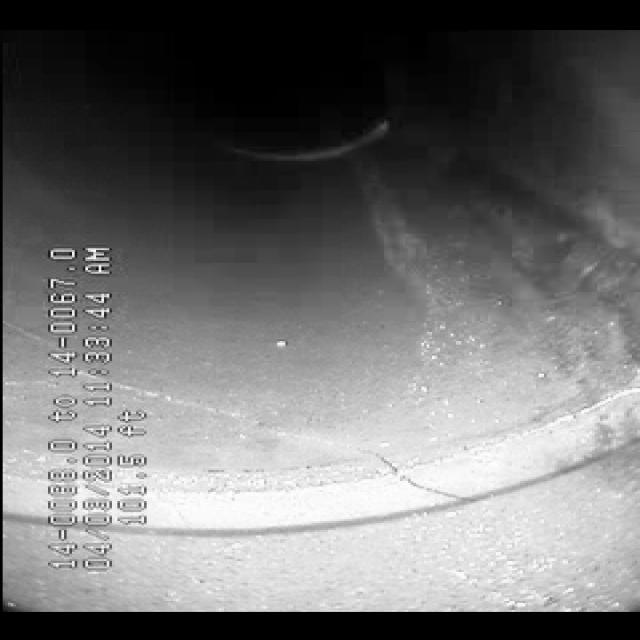Crack: (160, 393, 482, 498)
